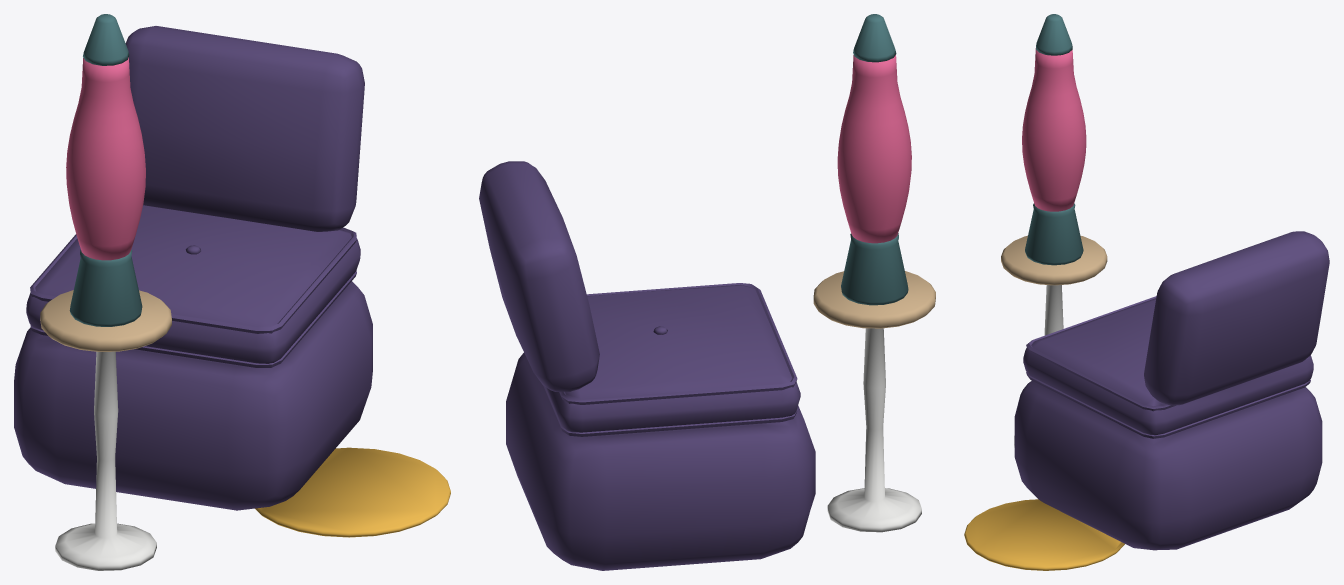
File: lavaLamp.glb
The picture shows the model from 3 angles, left to right: view 1: azimuth 30°, elevation 25°; view 2: azimuth 150°, elevation 25°; view 3: azimuth 270°, elevation 25°; orthographic projection. The views are drawn at different scales.
Visible parts, largest first — view 1: body; view 2: body; view 3: body.
Boxes of the visible parts, x1,y1,x2,y2 form: body: (14, 14, 450, 570); body: (479, 14, 935, 570); body: (964, 14, 1329, 570).
Bounding box in the file's own units: 0.8974 × 1.15 × 0.8944.
